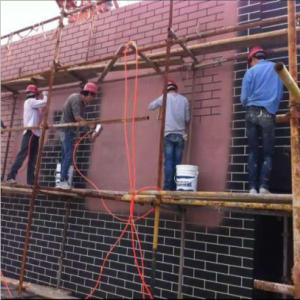red: (247, 45, 267, 68), (81, 82, 98, 104), (27, 85, 40, 102), (164, 80, 178, 94)
